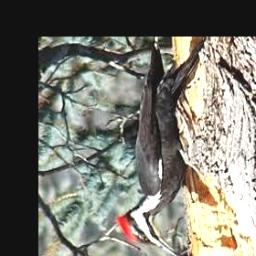Woodpecker: (117, 37, 205, 256)
